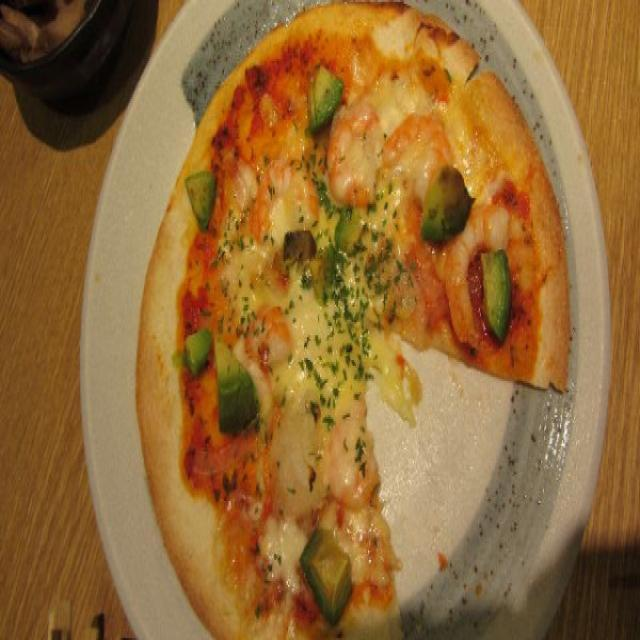Pizza: (132, 0, 576, 640)
